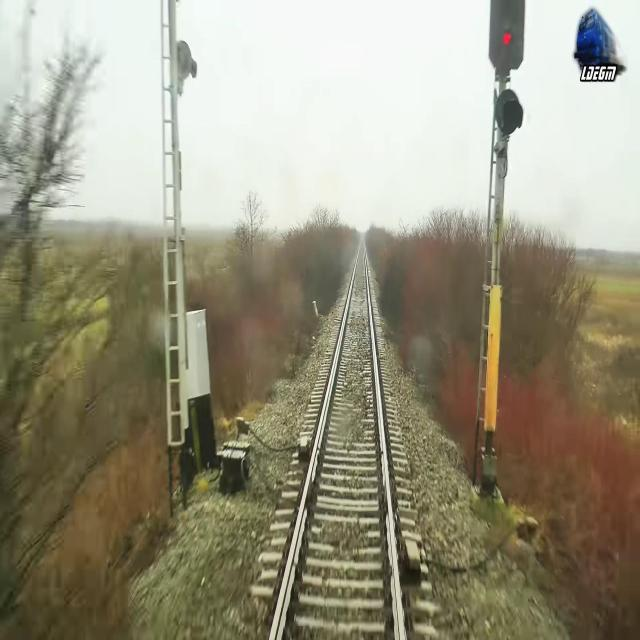rail-track: (274, 236, 399, 639)
